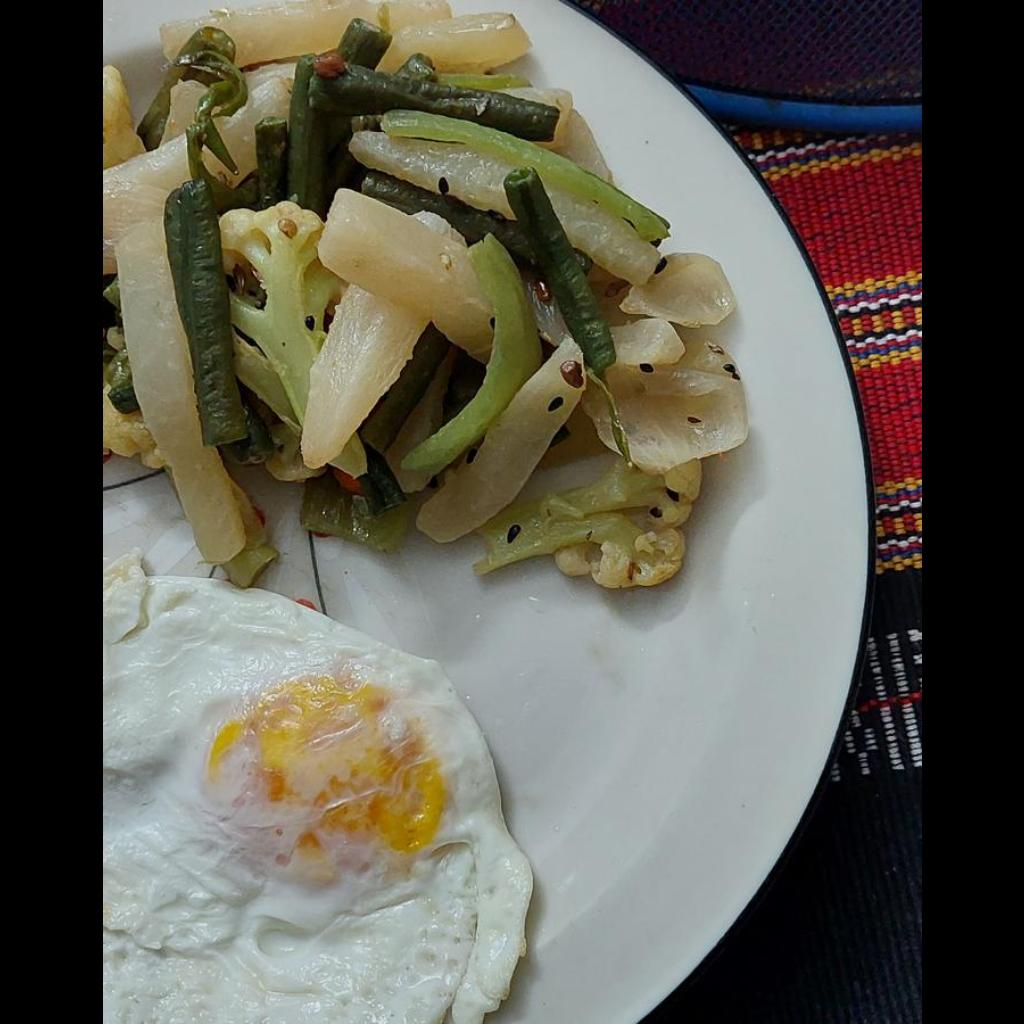egg-poached: (102, 561, 529, 1022)
vegetable: (106, 5, 765, 604)
